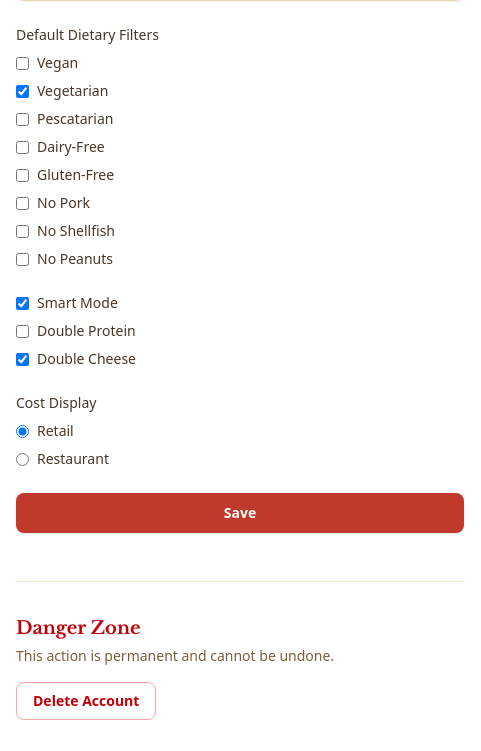
Scenario: SettingsPage › when authenticated › shows error message when save fails
(page scrolled)
Click the button "Save" at (240, 513), box [16, 493, 464, 533]
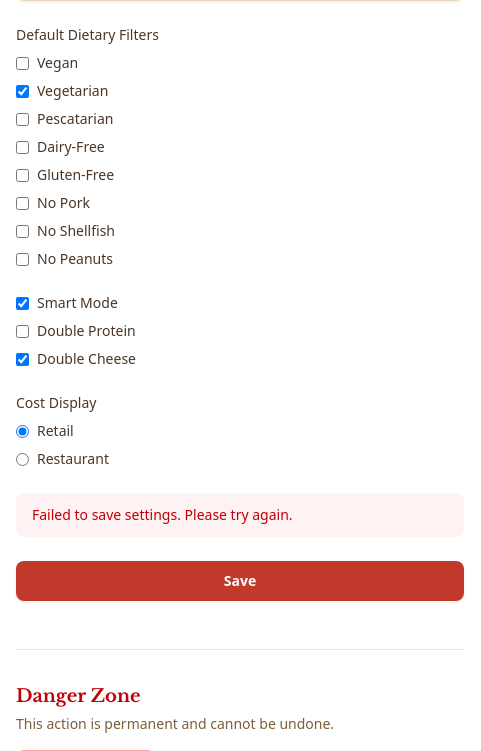
expect the message "Failed to save settings. Please try again." is shown: met, box [16, 493, 464, 537]
